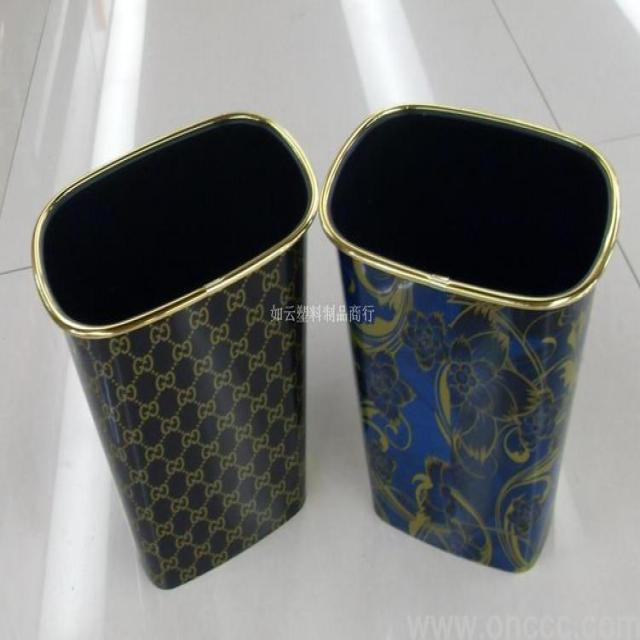Dustbin: (319, 98, 625, 577), (28, 101, 321, 596)
